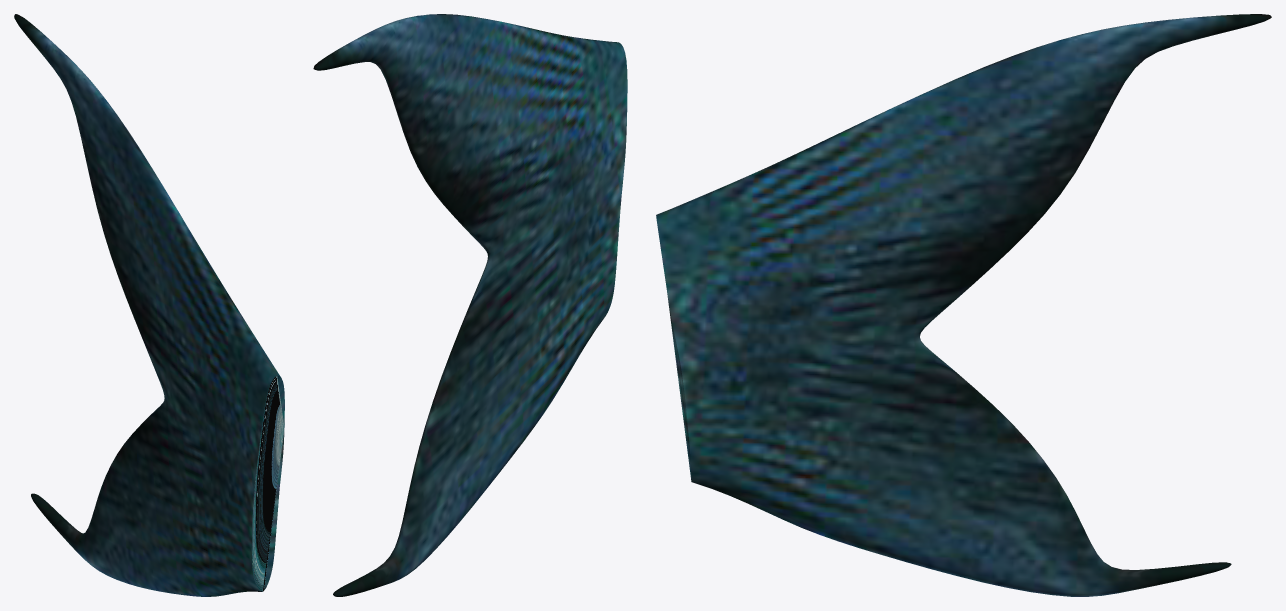
Rendered from ColaPezAzul.obj.
3 renders of one model, left to right at view 1: azimuth 30°, elevation 25°; view 2: azimuth 150°, elevation 25°; view 3: azimuth 270°, elevation 25°, orthographic. The views are drawn at different scales.
Visible parts, largest first — view 1: Cola; view 2: Cola; view 3: Cola.
Part boxes in pixels (x1,y1,x2,y2): Cola: [14, 14, 284, 596]; Cola: [313, 14, 627, 596]; Cola: [656, 14, 1271, 596].
Size of the model in its own units: 0.1036 by 1.89 by 1.81.
Materials: 1 (1 with a texture image).
